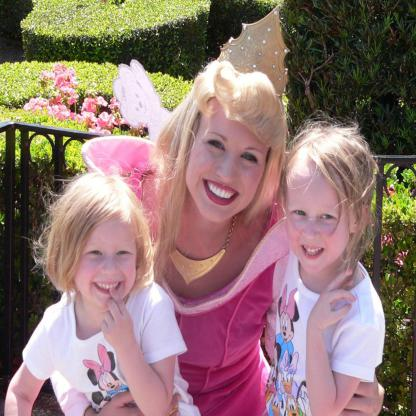face: (190, 118, 265, 222), (289, 185, 349, 269), (73, 241, 139, 305)
